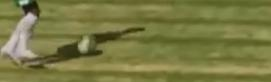ball: (72, 31, 102, 58)
